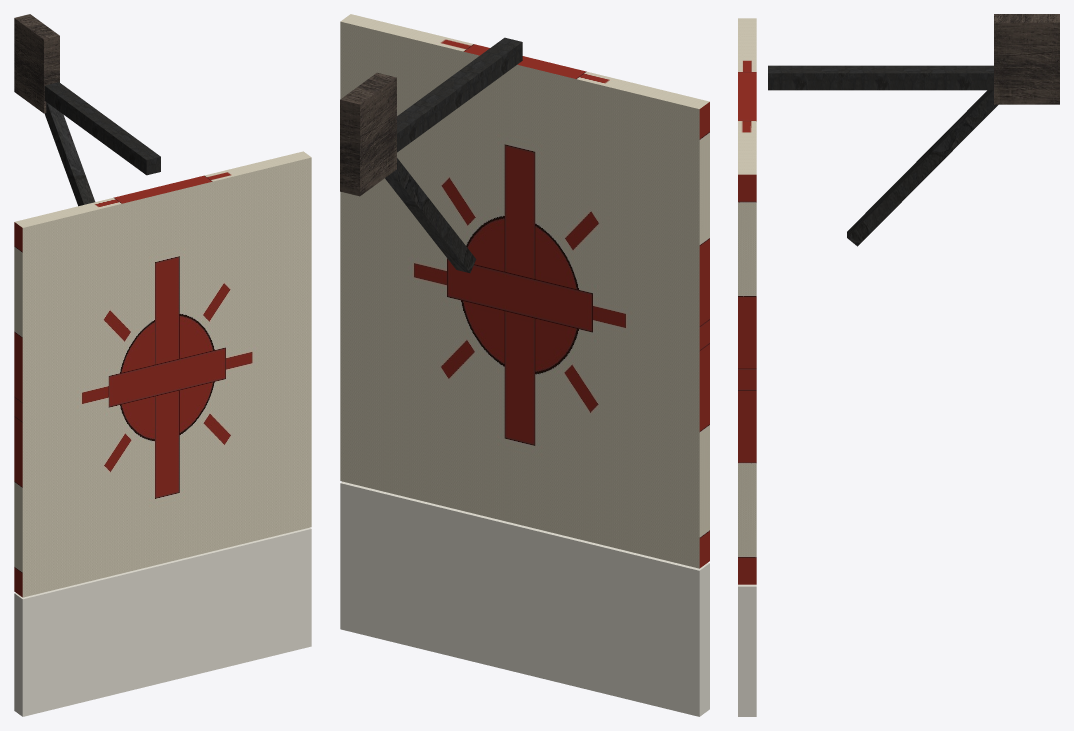
File: prop_hk_pennant_priest.glb
3 renders of one model, left to right at view 1: azimuth 30°, elevation 25°; view 2: azimuth 150°, elevation 25°; view 3: azimuth 270°, elevation 25°, orthographic. The views are drawn at different scales.
Visible parts, largest first — view 1: prop_hk_pennant_priest; view 2: prop_hk_pennant_priest; view 3: prop_hk_pennant_priest.
Part boxes in pixels (box(x1,y1,x2,y2)): prop_hk_pennant_priest: box(14, 14, 311, 716); prop_hk_pennant_priest: box(340, 14, 709, 716); prop_hk_pennant_priest: box(738, 14, 1059, 716).
Bounding box in the file's own units: 0.9 × 1.66 × 0.7825.
4 materials, 3 textured.
